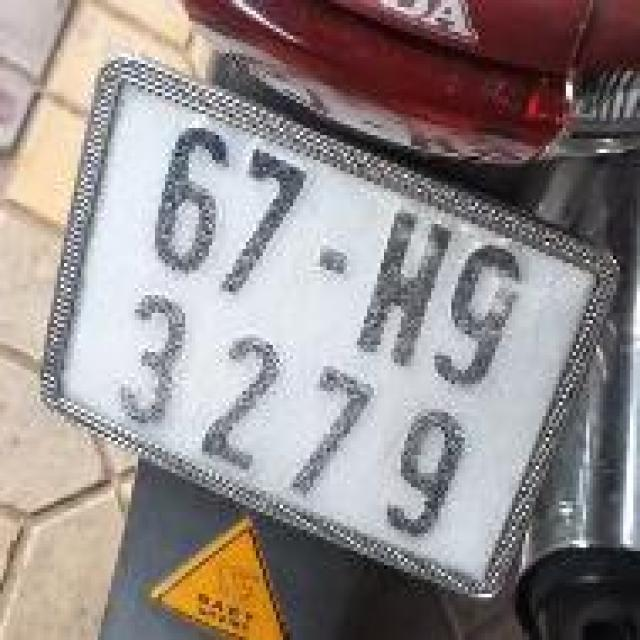2: (194, 316, 302, 482)
3: (105, 279, 206, 437)
6: (144, 112, 245, 286)
7: (206, 135, 319, 309), (271, 352, 389, 510)
9: (425, 231, 541, 398), (371, 391, 482, 558)
H: (344, 196, 472, 379)
